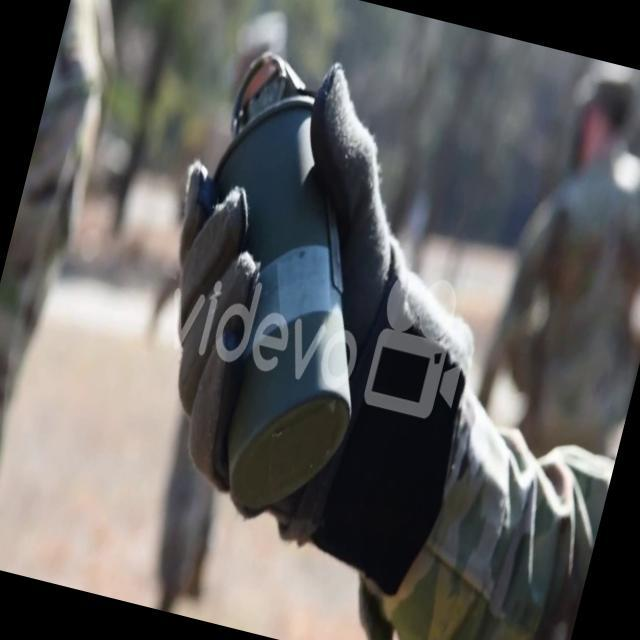grenade: (132, 35, 434, 532)
